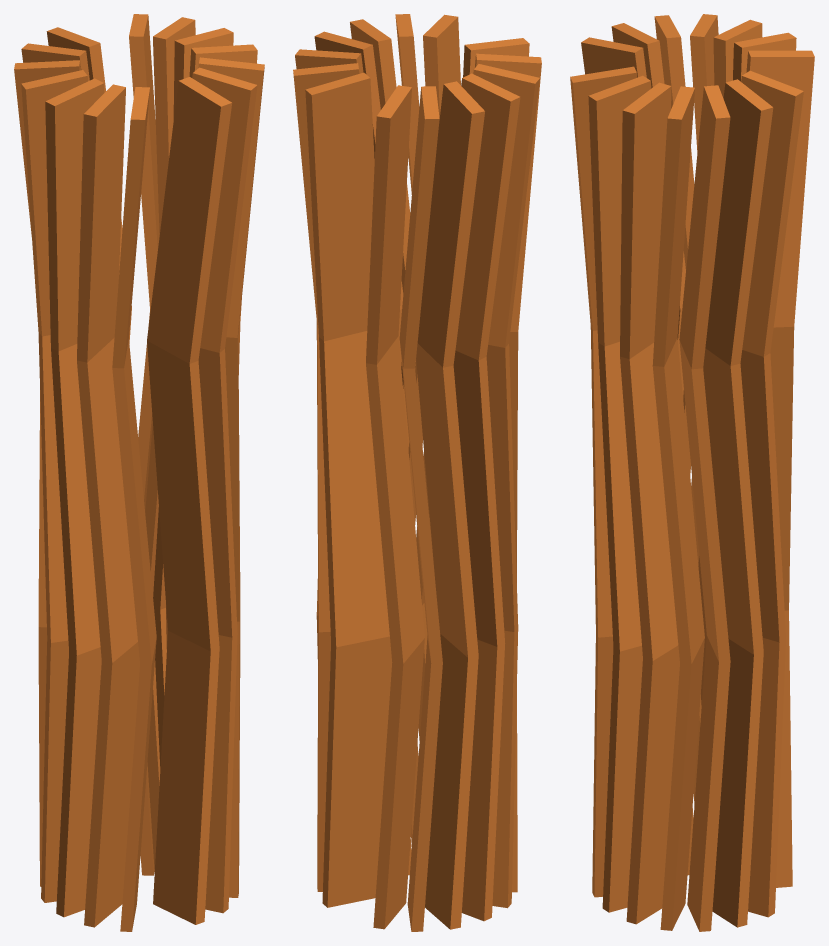
The model's file is BobinaDeAdornoDeGema.fbx.
The picture shows the model from 3 angles, left to right: view 1: azimuth 30°, elevation 25°; view 2: azimuth 150°, elevation 25°; view 3: azimuth 270°, elevation 25°; orthographic projection.
Visible parts, largest first — view 1: BobinaDeAdornoDeGema; view 2: BobinaDeAdornoDeGema; view 3: BobinaDeAdornoDeGema.
Boxes of the visible parts, <box> form: BobinaDeAdornoDeGema: <box>14,14,264,931</box>; BobinaDeAdornoDeGema: <box>293,14,541,931</box>; BobinaDeAdornoDeGema: <box>570,14,814,931</box>.
Bounding box in the file's own units: 428 × 1564 × 419.
